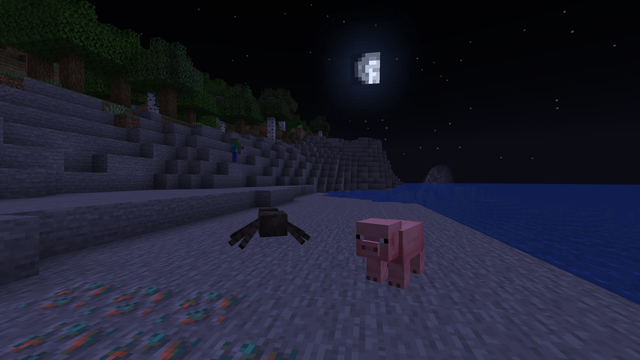araignees: (232, 204, 301, 248)
cochons: (368, 218, 430, 288)
zombies: (229, 138, 239, 162)
